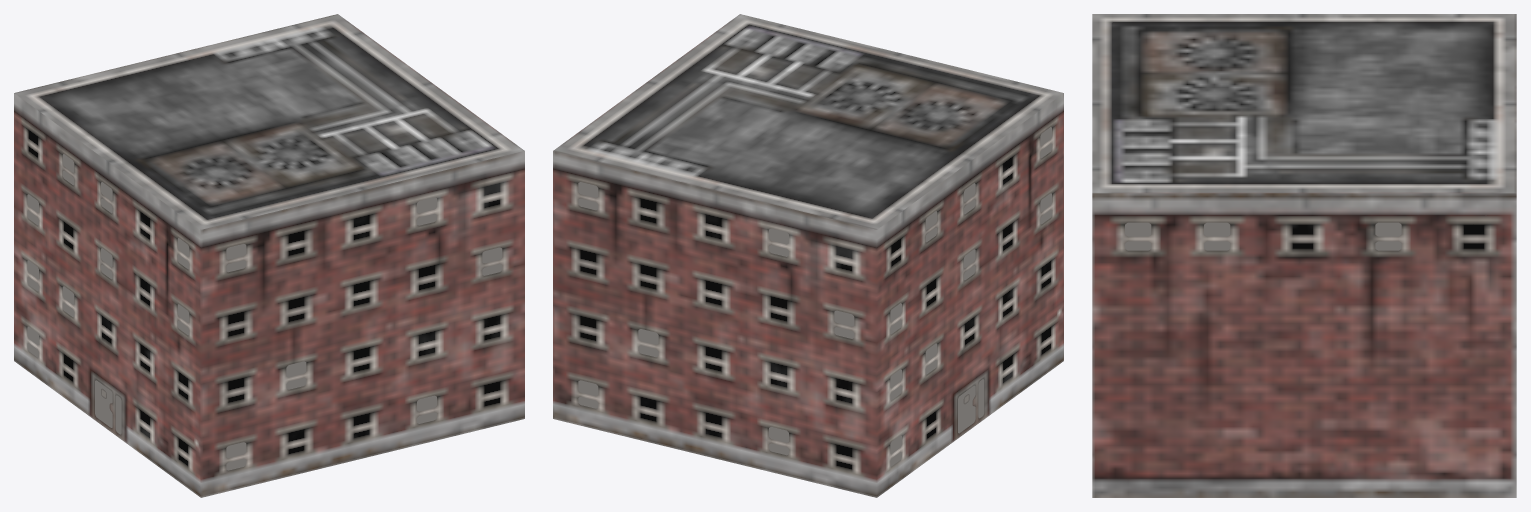
File: city4storya.glb
3 renders of one model, left to right at view 1: azimuth 30°, elevation 25°; view 2: azimuth 150°, elevation 25°; view 3: azimuth 270°, elevation 25°, orthographic. The views are drawn at different scales.
Parts seen in each view (by area): view 1: City4Story_, LitWin_City4Story; view 2: City4Story_, LitWin_City4Story; view 3: City4Story_, LitWin_City4Story.
Boxes of the visible parts, <box> form: City4Story_: <box>14,14,524,497</box>; LitWin_City4Story: <box>27,154,502,470</box>; City4Story_: <box>553,14,1063,497</box>; LitWin_City4Story: <box>578,127,1051,466</box>; City4Story_: <box>1092,14,1516,497</box>; LitWin_City4Story: <box>1125,222,1401,250</box>.
Bounding box in the file's own units: 17.92 × 14.18 × 17.92.
Materials: 1 (1 with a texture image).
